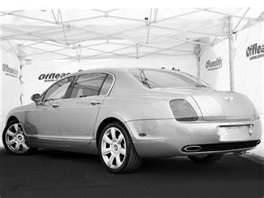car: (6, 70, 262, 176)
